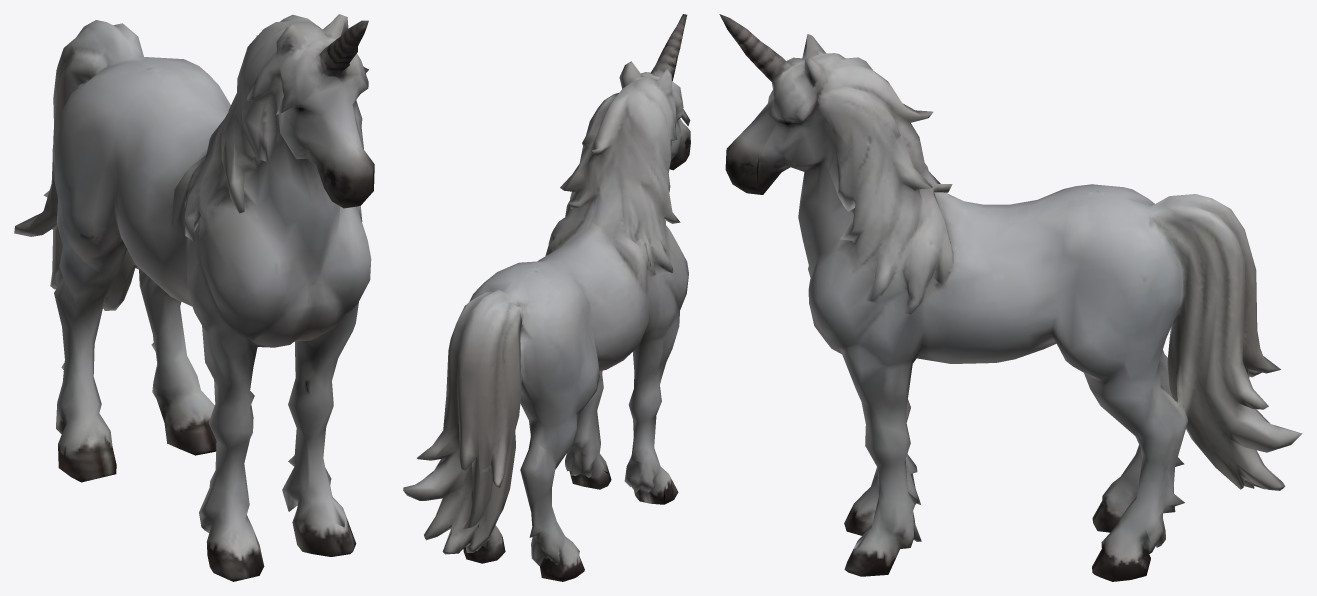
File: detail_13_lo2.glb
3 renders of one model, left to right at view 1: azimuth 30°, elevation 25°; view 2: azimuth 150°, elevation 25°; view 3: azimuth 270°, elevation 25°, orthographic. The views are drawn at different scales.
Visible parts, largest first — view 1: Mesh_0.001; view 2: Mesh_0.001; view 3: Mesh_0.001.
Boxes of the visible parts, bbox=[...] form: Mesh_0.001: bbox=[14, 14, 374, 581]; Mesh_0.001: bbox=[403, 14, 690, 581]; Mesh_0.001: bbox=[719, 14, 1302, 581].
Bounding box in the file's own units: 0.295 × 1.01 × 0.9962.
1 material, 1 textured.
